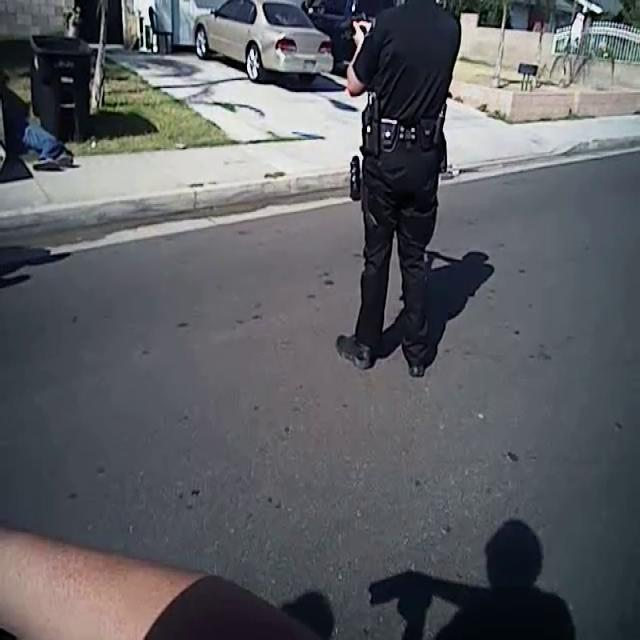gun: (332, 9, 380, 55)
